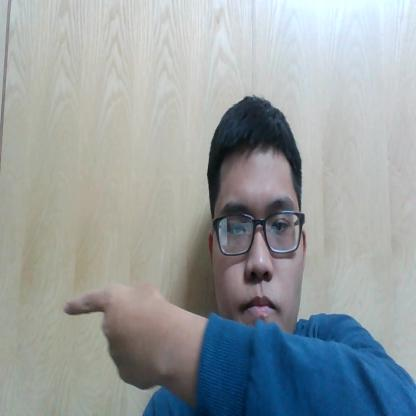right: (56, 267, 178, 399)
